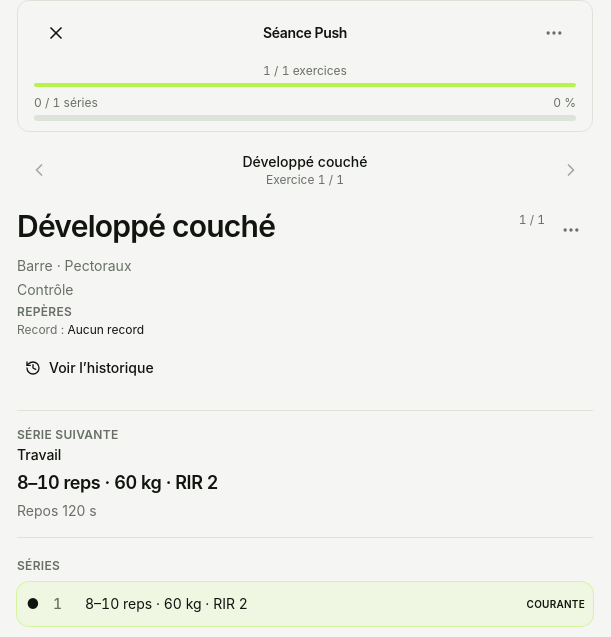
it: Workout lifecycle UI (3.3) › affiche les actions ACTIVE et met en pause
Click the button named "Actions de séance": (554, 33) [532, 11, 576, 55]
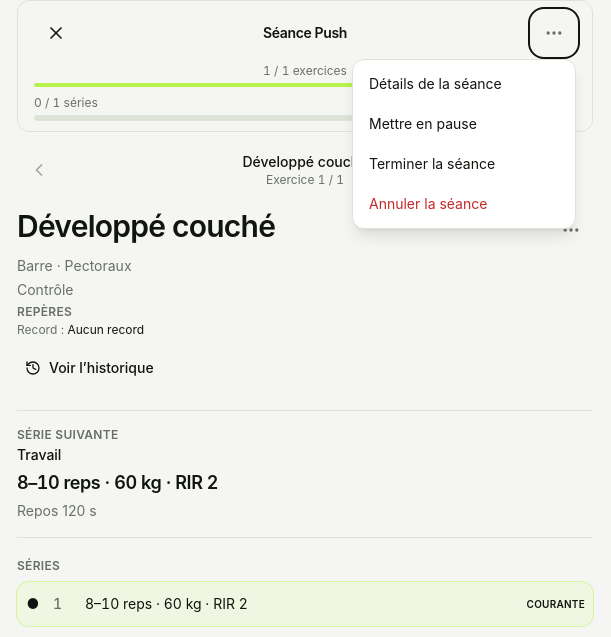
Check: the menu item "Mettre en pause" is shown
Check: the menu item "Terminer la séance" is shown, box [357, 144, 571, 184]
Check: the menu item "Annuler la séance" is shown, box [357, 184, 571, 224]
Click the menu item "Mettre en pause": (464, 124) [357, 104, 571, 144]
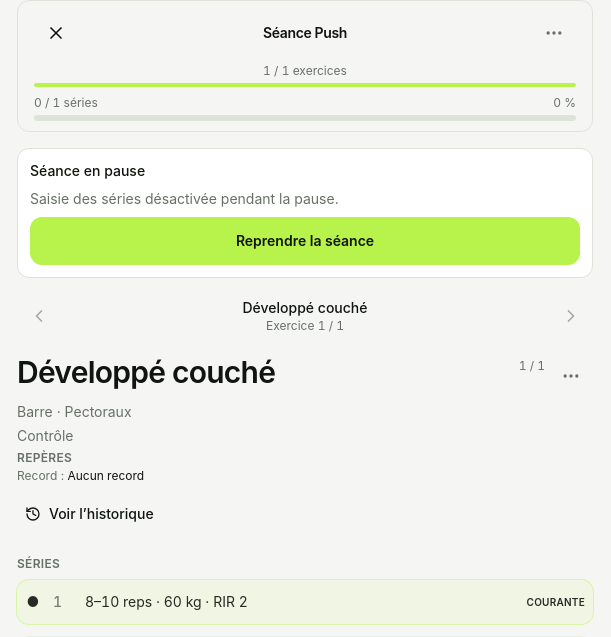
Check: the text "Séance en pause" is shown, box [30, 162, 145, 179]
Check: the text "Saisie des séries désactivée pendant la pause." is shown, box [30, 190, 339, 207]
